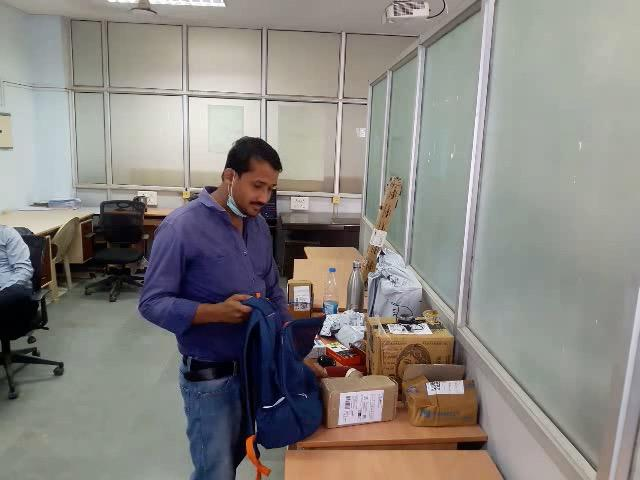shoplifting: (131, 242, 419, 464)
